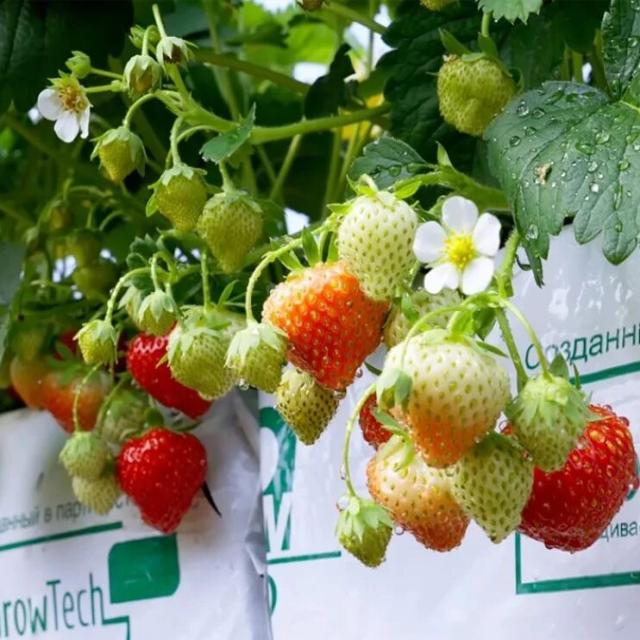Ripe Strawberry: (502, 408, 632, 552), (119, 430, 205, 533), (127, 332, 213, 418), (360, 393, 393, 449)
